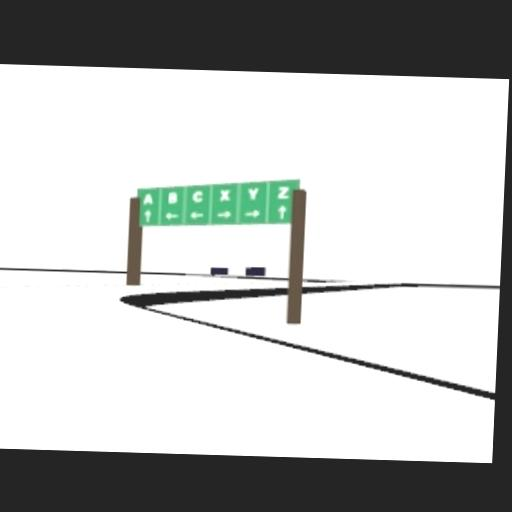A: (142, 192, 153, 205)
B: (167, 191, 178, 204)
C: (190, 190, 203, 202)
Left: (188, 211, 203, 219), (165, 211, 178, 220)
Right: (243, 208, 259, 217), (216, 210, 231, 218)
Straight: (277, 205, 285, 220), (142, 209, 151, 222)
X: (219, 188, 230, 202)
Y: (248, 187, 258, 199)
Z: (276, 186, 288, 199)
